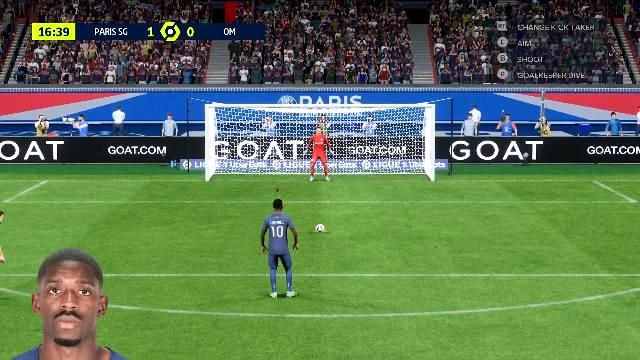bottom-left: (210, 149, 284, 183)
bottom-right: (354, 148, 432, 182)
center-down: (286, 148, 354, 182)
center-up: (285, 107, 353, 147)
circle: (298, 226, 346, 233)
football: (316, 224, 326, 232)
goalkeeper: (303, 124, 335, 182)
player: (260, 198, 300, 298)
top-left: (210, 107, 284, 147)
top-right: (354, 108, 432, 146)
